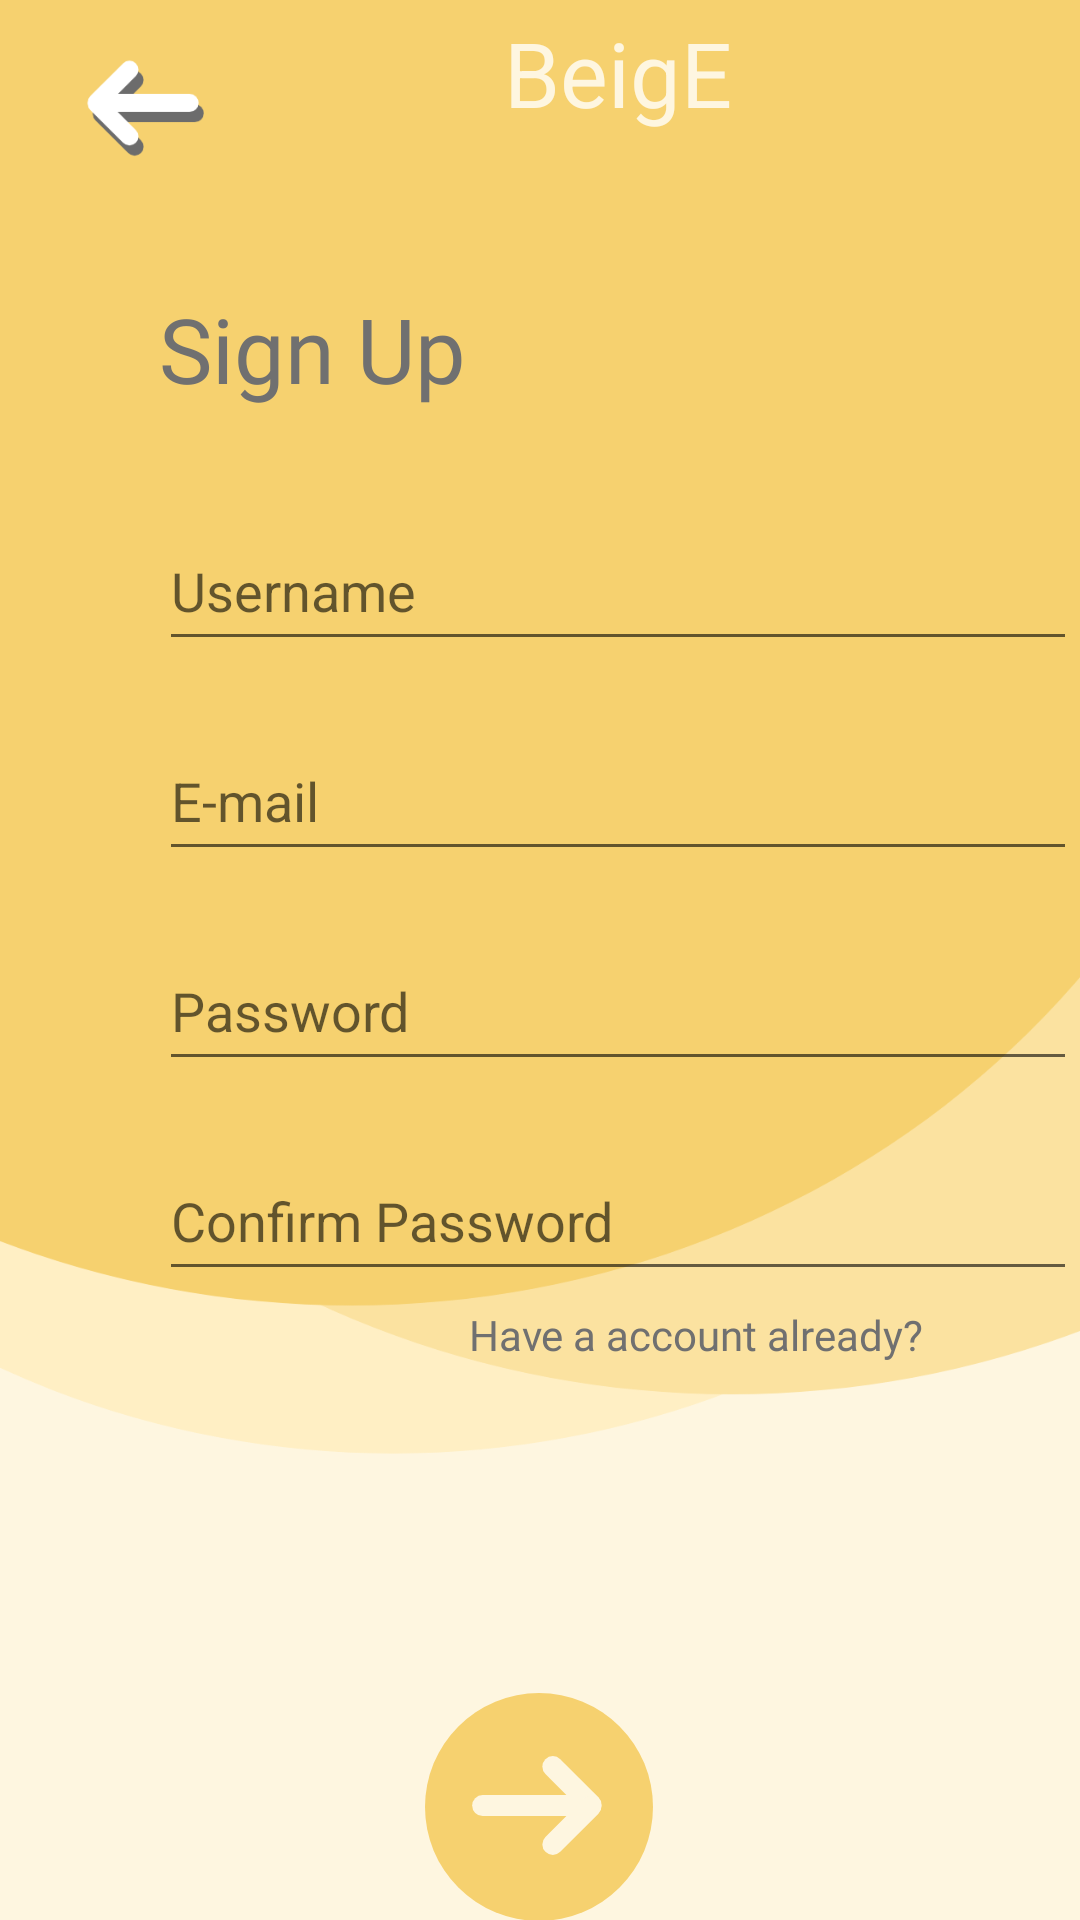

Named icons in this screenshot (1080x1920) and their centers, (x=x, y=y):
backbtn: (x=145, y=108)
proceedbtn: (x=539, y=1806)
